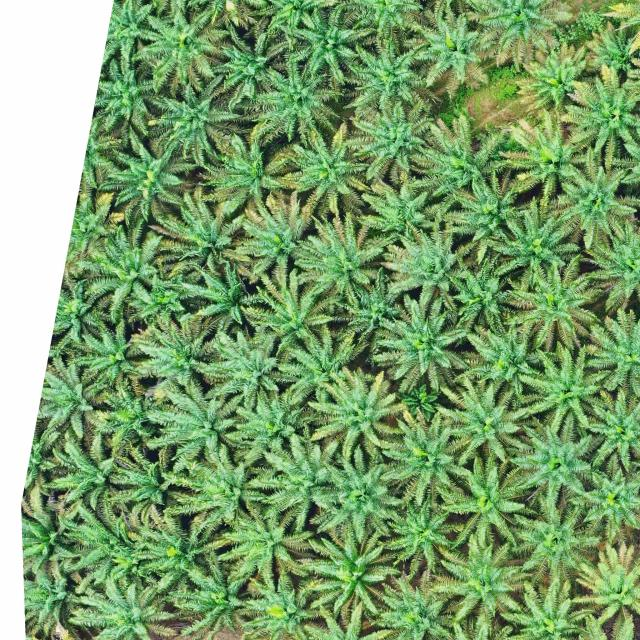Tree: (367, 290, 478, 398), (303, 366, 413, 473), (290, 521, 401, 624), (430, 456, 536, 560), (500, 259, 604, 358), (248, 429, 347, 532), (379, 212, 482, 310), (426, 530, 533, 624), (438, 167, 541, 264), (247, 49, 344, 150), (280, 119, 373, 224), (93, 128, 194, 224), (296, 206, 387, 312), (132, 504, 232, 600), (312, 442, 406, 544), (74, 222, 170, 321), (157, 441, 270, 525), (549, 146, 640, 250), (496, 104, 596, 198), (411, 110, 508, 206), (145, 72, 243, 166), (278, 4, 385, 90), (380, 406, 472, 506), (518, 344, 612, 441), (131, 4, 230, 95), (233, 186, 317, 290), (156, 185, 250, 277), (439, 374, 534, 465), (397, 6, 493, 96), (193, 131, 293, 217), (512, 490, 603, 584), (485, 192, 584, 276), (276, 322, 372, 407), (459, 0, 577, 69), (343, 98, 436, 185), (144, 374, 240, 457), (202, 326, 301, 406), (66, 569, 176, 640), (239, 263, 336, 343), (509, 418, 595, 508), (57, 500, 139, 594), (211, 21, 293, 115), (166, 558, 258, 640), (220, 508, 314, 587), (562, 71, 640, 165), (334, 33, 428, 111), (128, 311, 222, 388), (380, 497, 466, 577), (453, 316, 543, 392), (570, 544, 640, 638), (41, 428, 118, 512), (444, 252, 519, 338), (579, 214, 640, 316), (496, 578, 595, 640), (375, 570, 462, 640), (514, 40, 592, 118), (359, 177, 445, 246), (90, 377, 160, 460), (242, 570, 324, 640), (567, 464, 640, 542), (514, 38, 587, 115), (576, 389, 640, 476), (72, 314, 144, 389), (583, 306, 640, 398), (177, 260, 250, 326), (232, 391, 306, 451), (107, 439, 171, 507), (586, 16, 640, 76), (311, 440, 311, 442)
